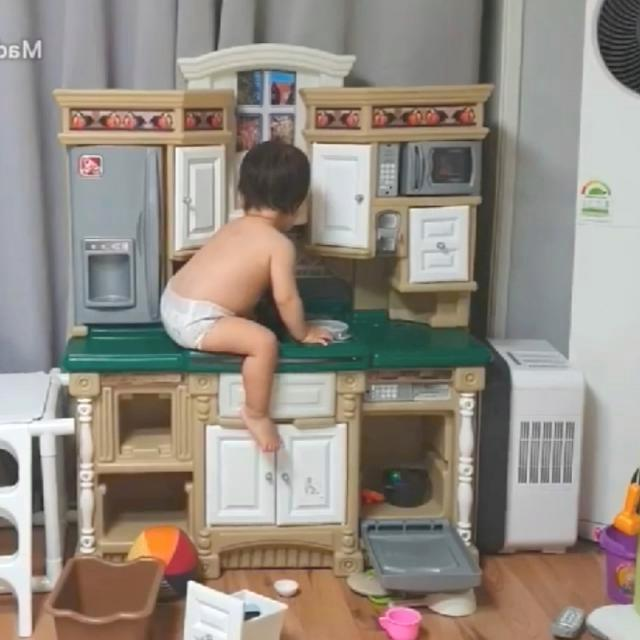child: (155, 136, 343, 462)
